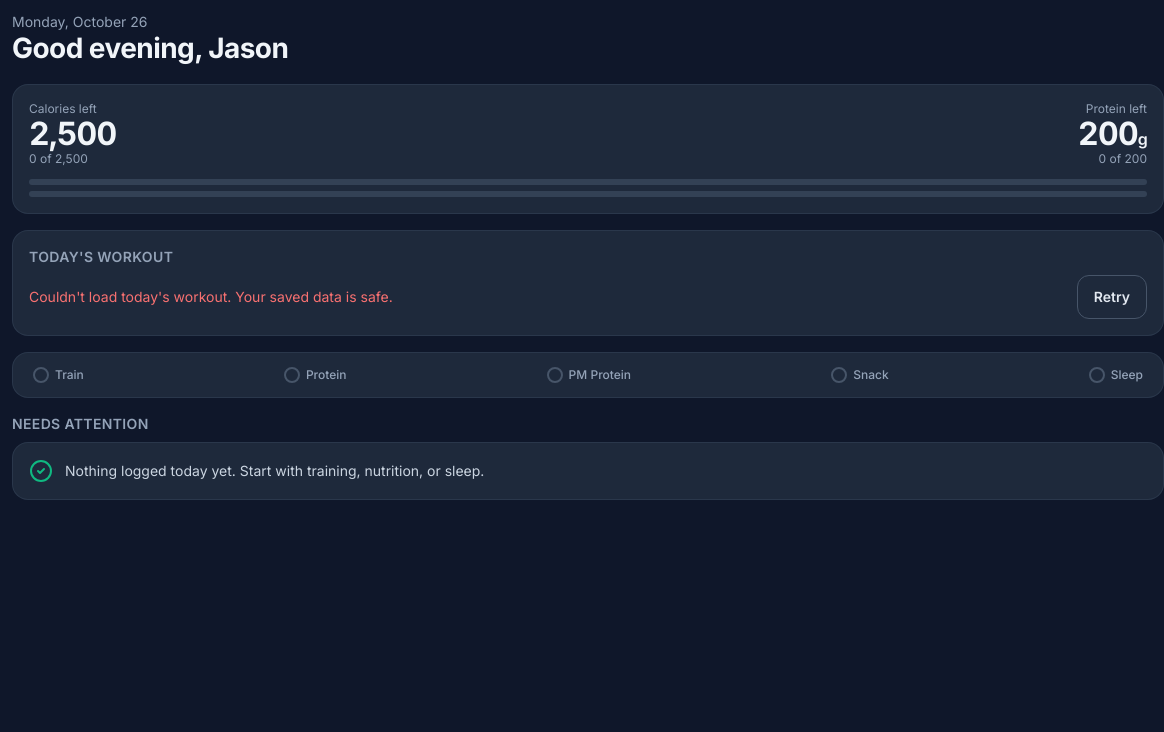
Test: Today's Workout card › says the load failed (not "no routine") and recovers on retry
The width and height of the screenshot is (1164, 732).
Expected: the text "no routine for today" is not shown
Click the button "Retry". click: [1112, 297]
box: 1077,275 -> 1147,319
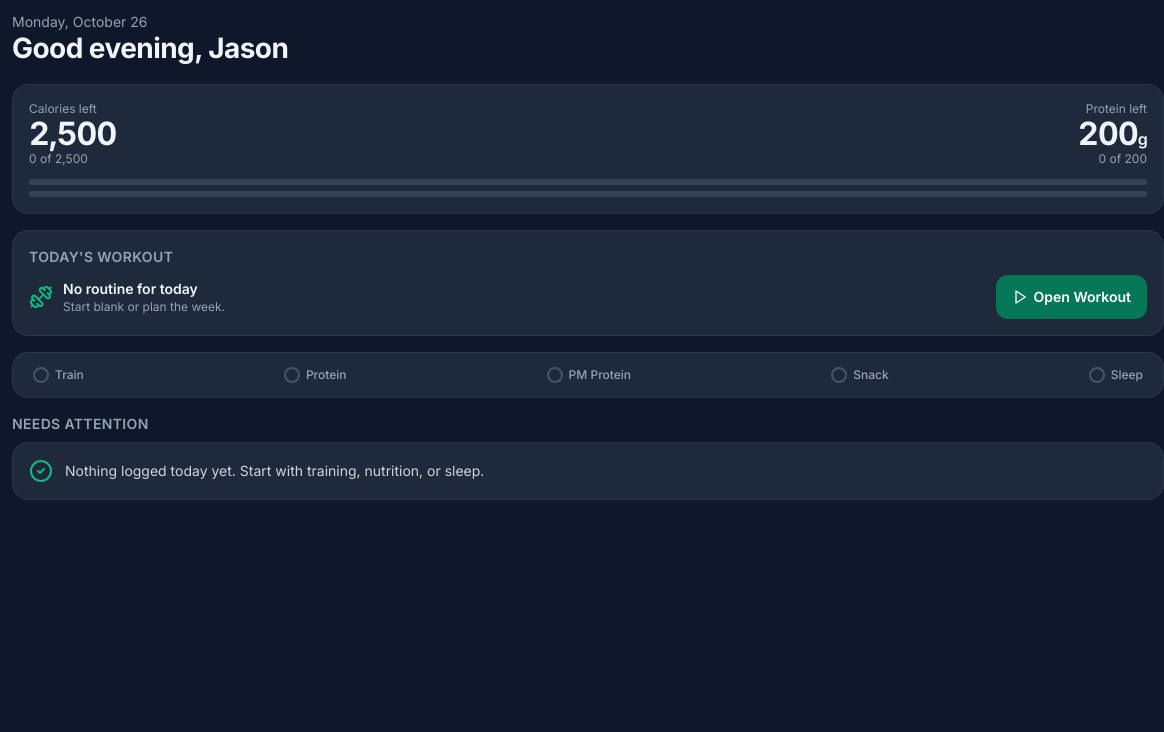
Result: the text "No routine for today" is shown at 63,280 -> 198,297
